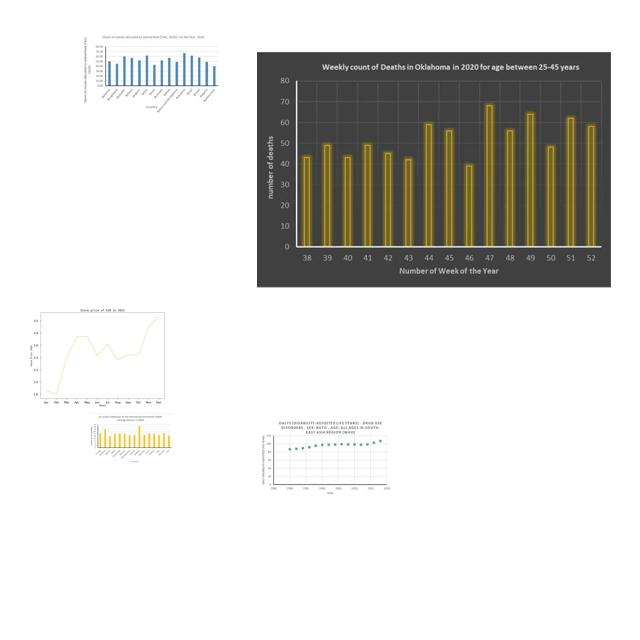Graph: (257, 52, 611, 288), (19, 299, 182, 411), (82, 31, 221, 114), (260, 419, 393, 498), (88, 413, 173, 465)
